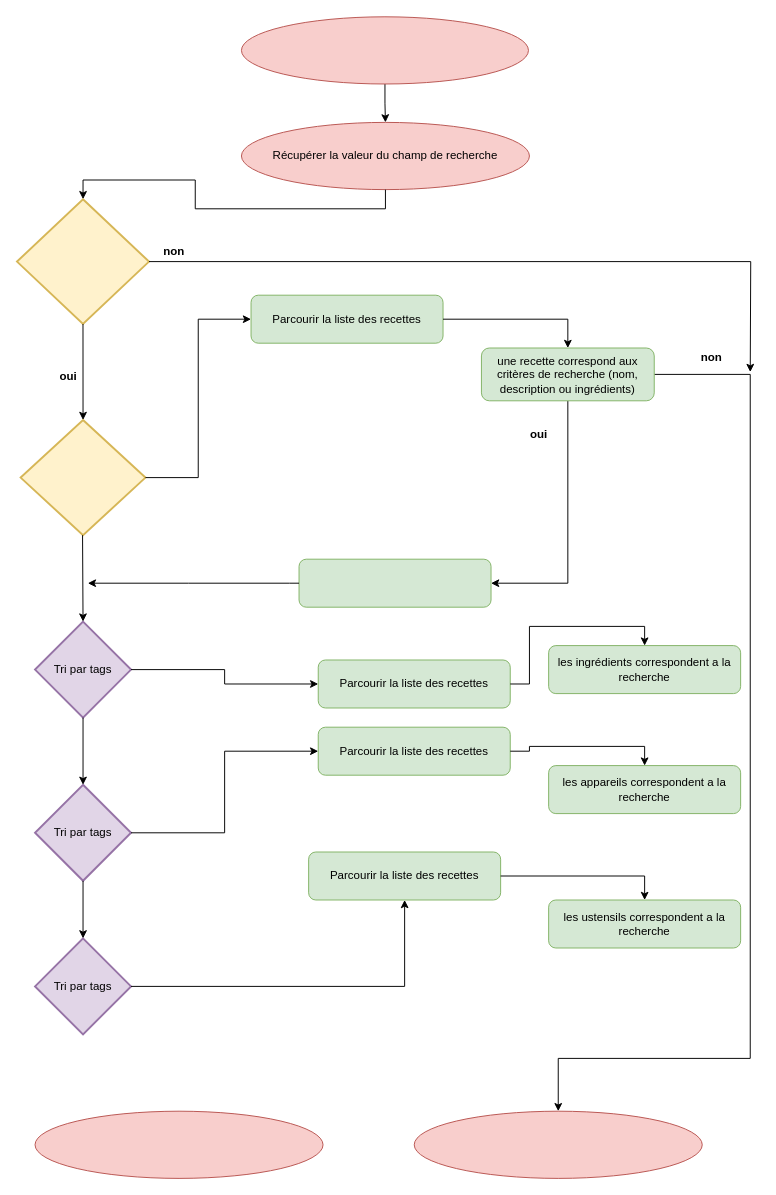
This 776x1195 diagram has some shape labels left out. Here are the shapes that lost their labels. From the top down, the centre of each, then its label:
the point at 384,50: Récuperation dans une variable de nos recettes ( filtredRecipes)
the point at 82,261: Le champ saisi contient au moins 3 lettres ?
the point at 82,477: Tri (simpleSearch)
the point at 394,582: Ajouter la recette à la liste filtrée (filtredRecipes)
the point at 178,1144: Afficher les recettes filtrées
the point at 557,1144: Afficher toutes les recettes
